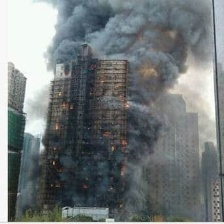smoke: (49, 2, 224, 203)
